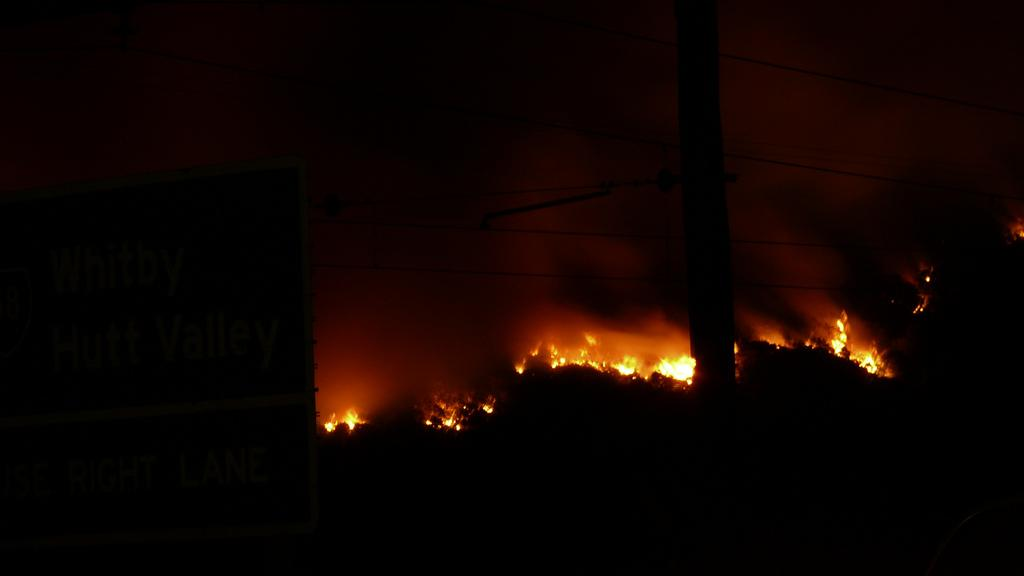fire: (826, 323, 881, 376), (660, 346, 707, 383), (323, 404, 360, 436), (607, 354, 643, 381)
